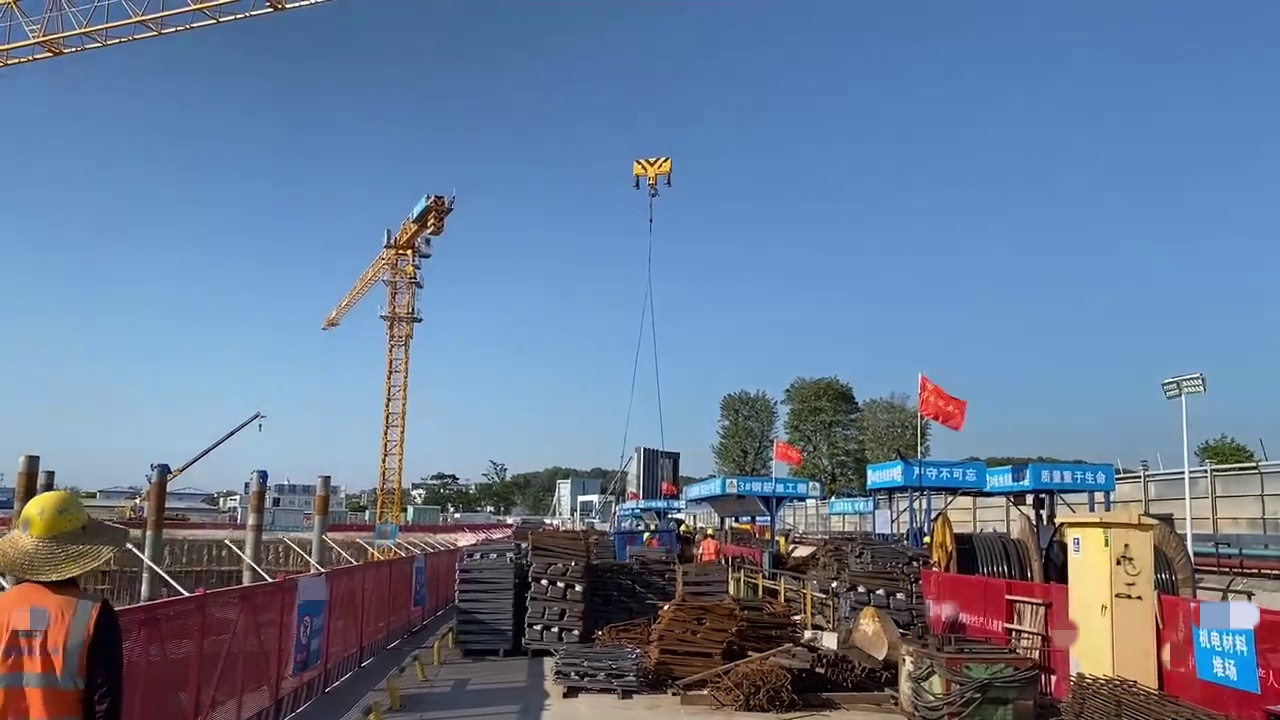ebox: (1059, 510, 1163, 688)
fence: (130, 575, 324, 720), (325, 547, 449, 655), (1163, 604, 1280, 703), (932, 571, 1059, 636)
helmet: (18, 488, 95, 538)
hook: (632, 154, 674, 187)
person: (1, 481, 126, 718), (698, 527, 719, 564)
rebar: (456, 549, 523, 666), (537, 530, 594, 655), (651, 603, 739, 683), (1055, 670, 1186, 720), (822, 545, 866, 658), (710, 658, 789, 713), (801, 647, 885, 697)
slogan: (1035, 463, 1115, 489), (911, 463, 983, 487), (959, 610, 1001, 632)
vest: (3, 575, 106, 720)
